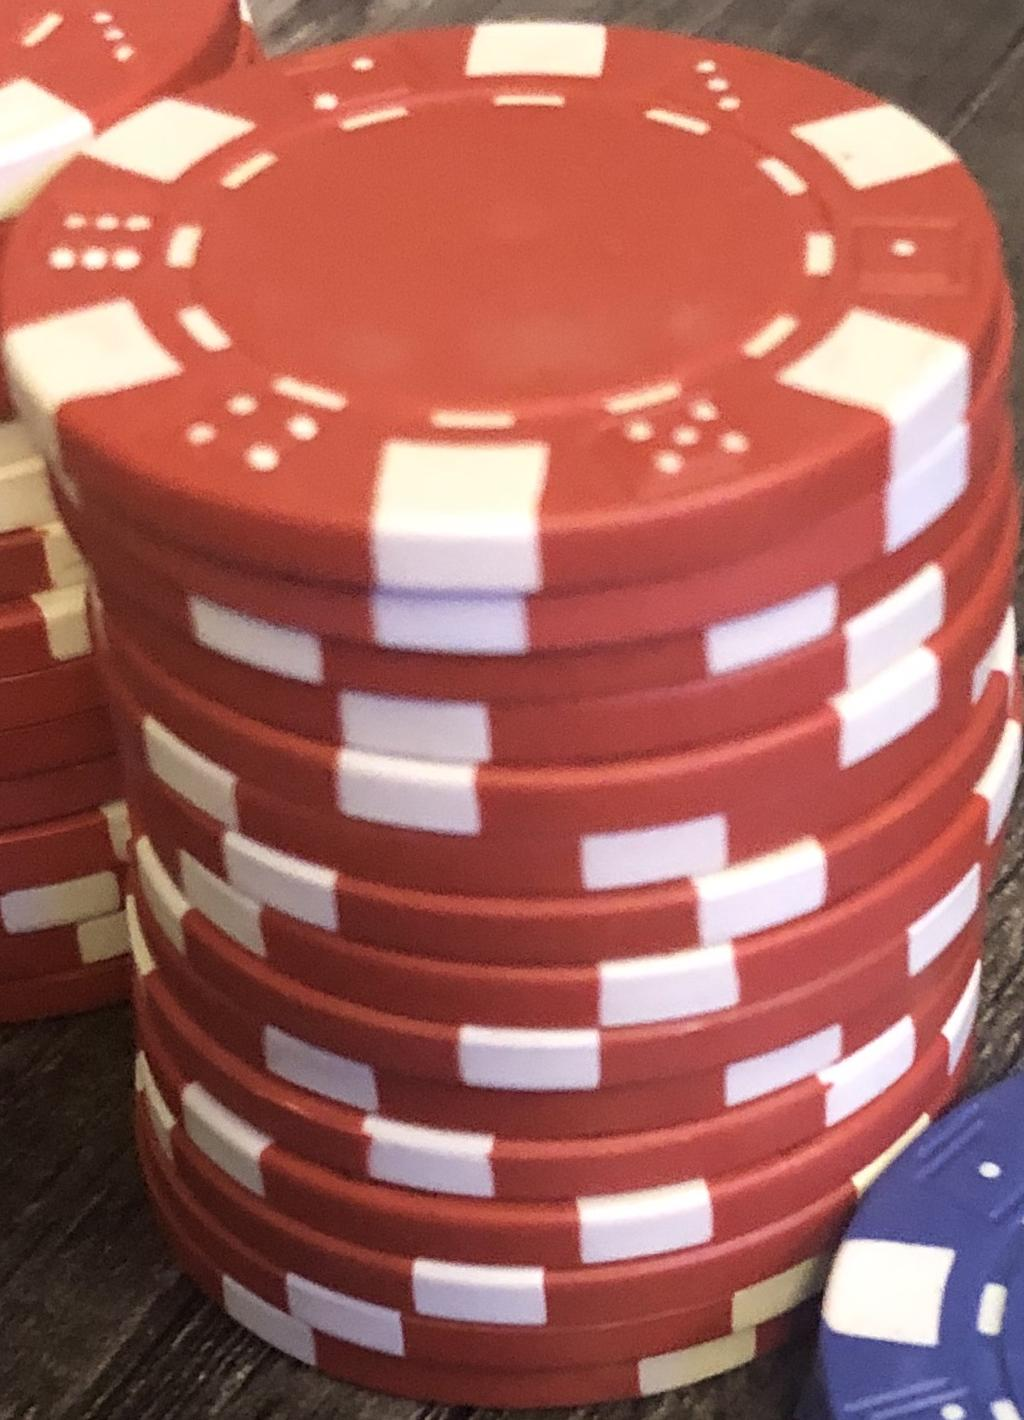Chip: (1, 1, 1024, 1420)
